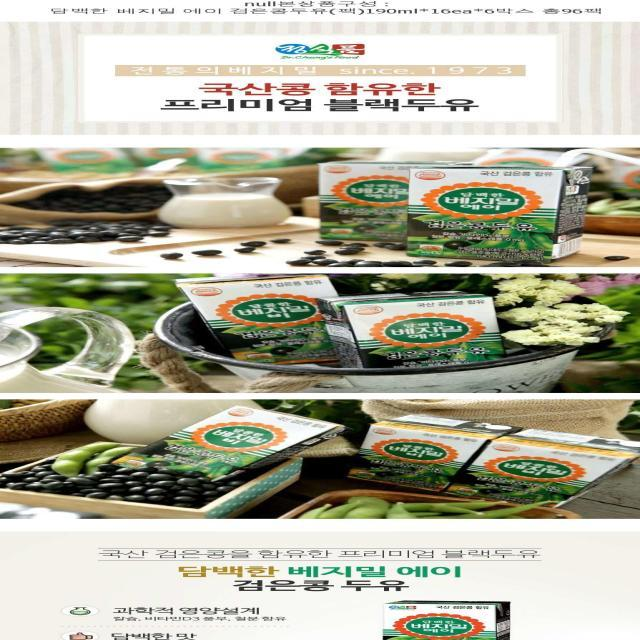Tetra: (391, 165, 592, 264), (298, 156, 483, 254), (184, 268, 372, 351), (298, 294, 506, 368), (458, 430, 640, 513), (366, 408, 520, 487)
